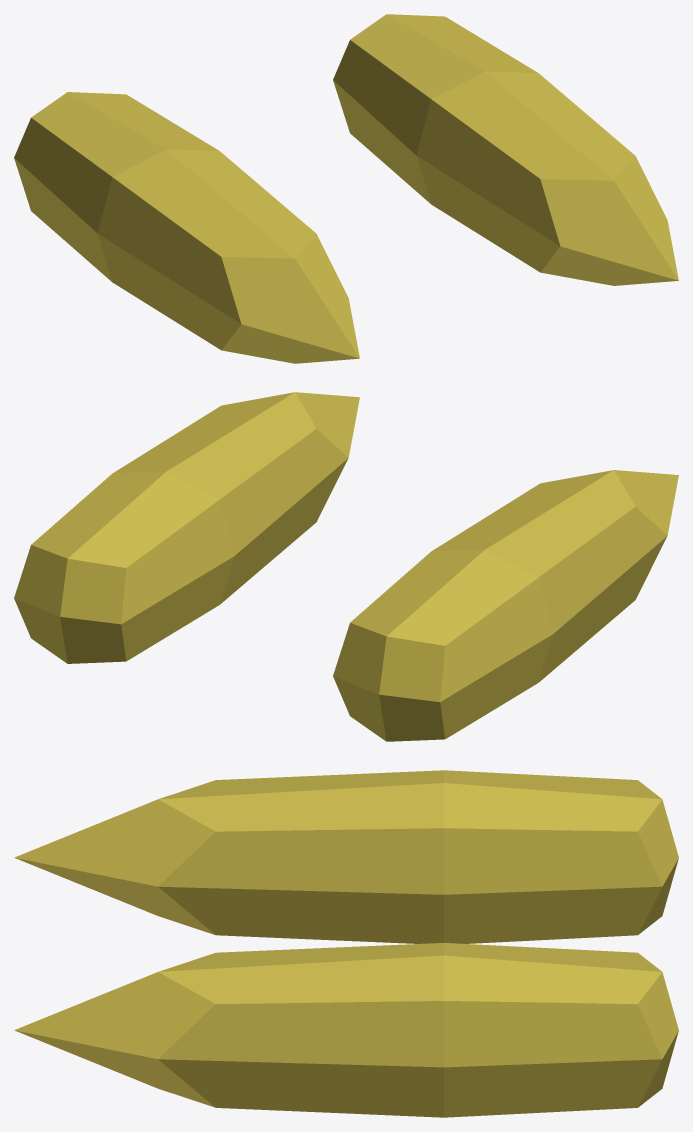
Rendered from BulletDouble.fbx.
The picture shows the model from 3 angles, top to bottom: view 1: azimuth 30°, elevation 25°; view 2: azimuth 150°, elevation 25°; view 3: azimuth 270°, elevation 25°; orthographic projection. The views are drawn at different scales.
Parts seen in each view (by area): view 1: Bullet.001, Bullet; view 2: Bullet, Bullet.001; view 3: Bullet.001, Bullet.
Boxes of the visible parts, left/top/right/bottom form: Bullet.001: left=333, top=14, right=678, bottom=285; Bullet: left=14, top=92, right=359, bottom=363; Bullet: left=333, top=470, right=678, bottom=741; Bullet.001: left=14, top=392, right=359, bottom=663; Bullet.001: left=14, top=943, right=678, bottom=1117; Bullet: left=14, top=770, right=678, bottom=943.
Size of the model in its own units: 85.81 by 24.23 by 97.71.
